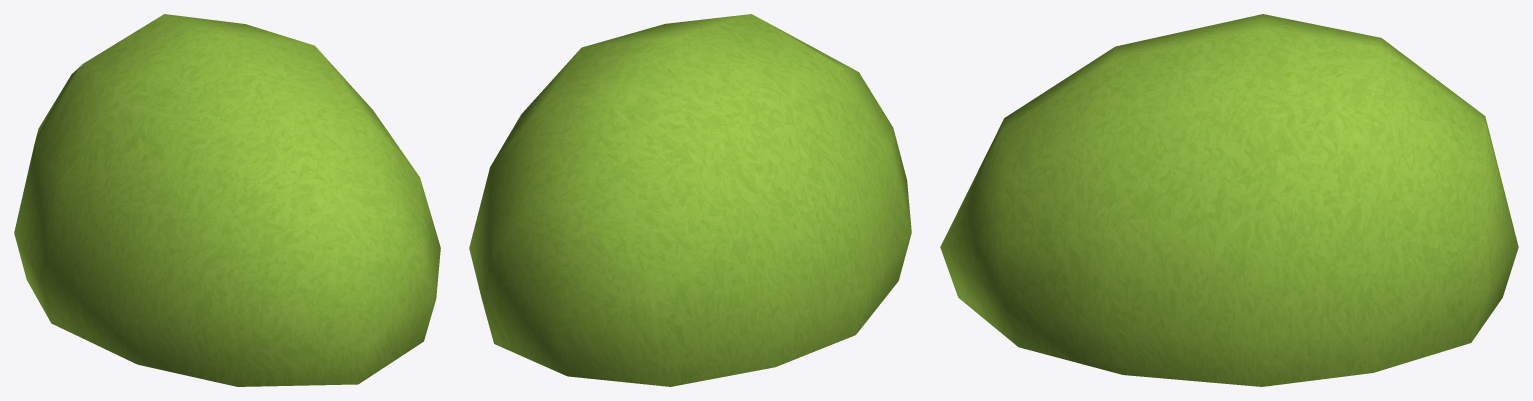
File: fbx_shrubs_stone.FBX
The picture shows the model from 3 angles, left to right: view 1: azimuth 30°, elevation 25°; view 2: azimuth 150°, elevation 25°; view 3: azimuth 270°, elevation 25°; orthographic projection. The views are drawn at different scales.
Parts seen in each view (by area): view 1: shrubs_stone; view 2: shrubs_stone; view 3: shrubs_stone.
Part boxes in pixels (x1=…): shrubs_stone: x1=14, y1=14, x2=440, y2=386; shrubs_stone: x1=469, y1=14, x2=911, y2=386; shrubs_stone: x1=940, y1=14, x2=1518, y2=386.
Bounding box in the file's own units: 14.12 × 9.33 × 18.18.
